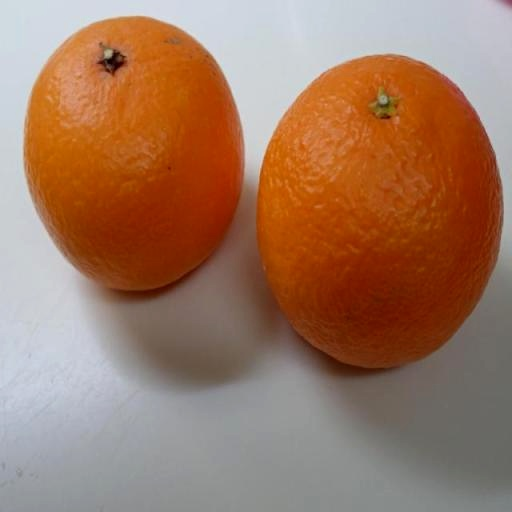fruit: (95, 77, 385, 317), (488, 113, 510, 391)
